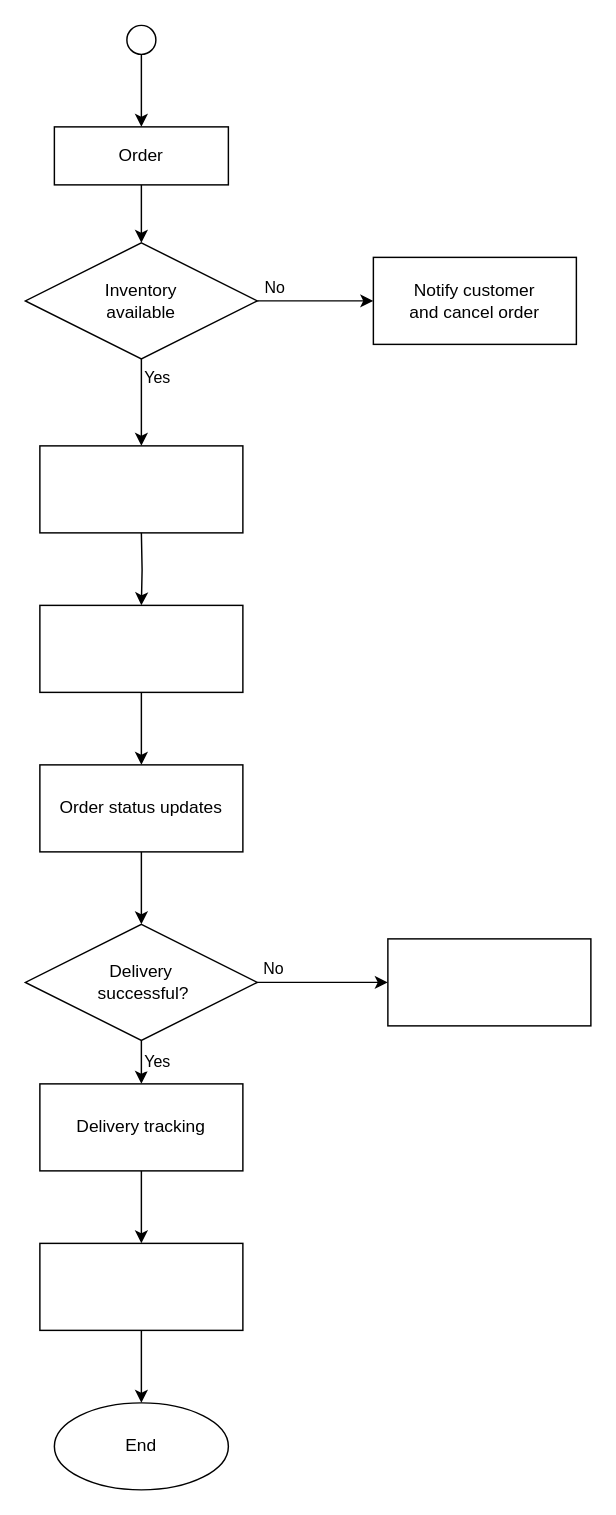
Image size: 616x1515. Some labels were removed from this diagram. The shapes that lost their labels are listed below. From the top down, each one's box as (x1, y1, x2, y2) in pixels, then its label:
(38, 444, 243, 533): Inventory management
(38, 604, 243, 692): Package preparation and shipping arrangement
(386, 937, 591, 1026): Initiate support /re-delivery process
(38, 1242, 243, 1330): Rating and review management
